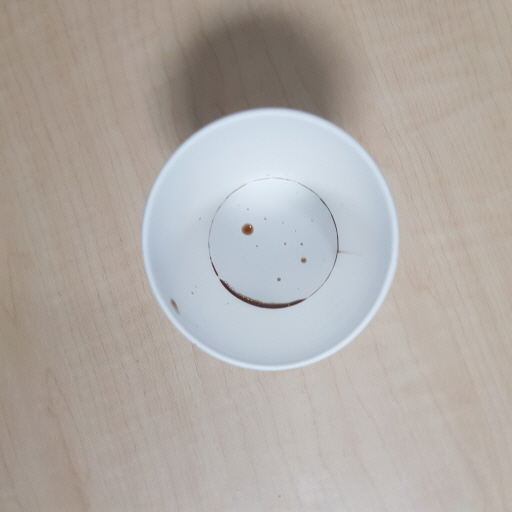Paper_1: (140, 102, 401, 373)
